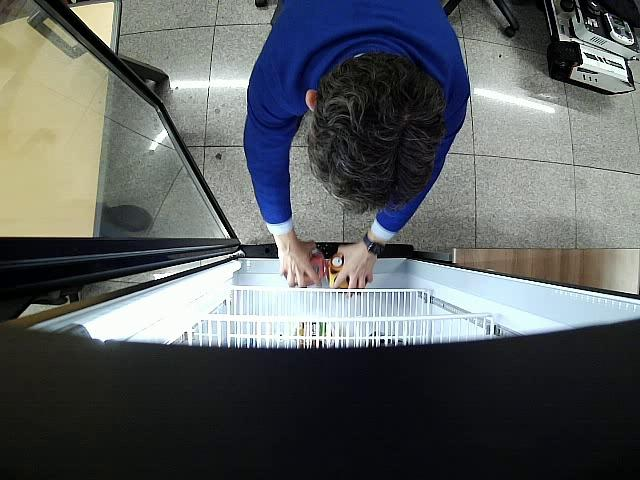00_hand: (277, 240, 323, 288), (334, 244, 373, 298)
05_nuguri_L: (295, 248, 326, 285), (326, 252, 350, 289)
